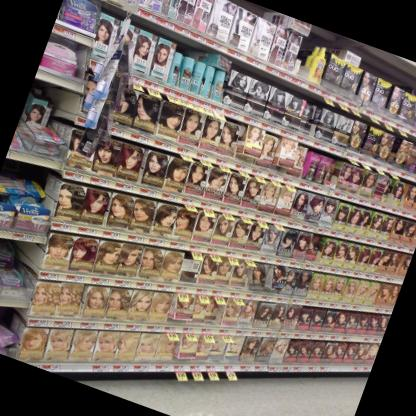empty_space: (293, 53, 307, 80)
